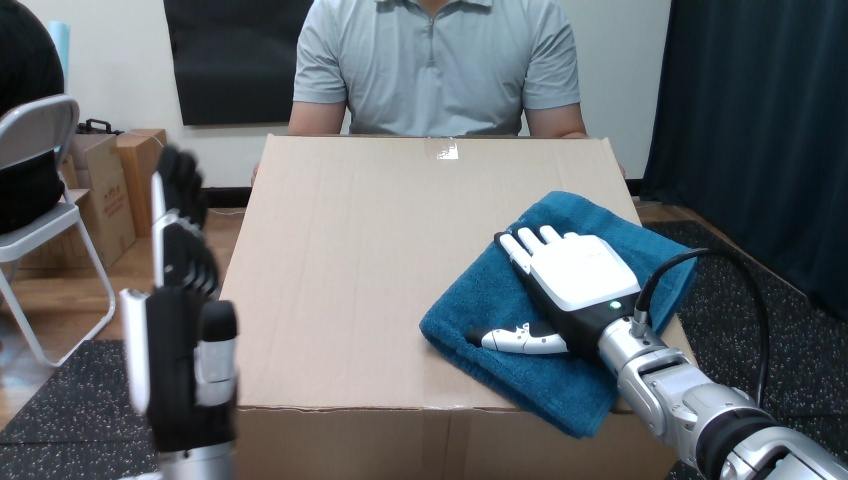left robot hand: (120, 145, 236, 479), (152, 145, 218, 295)
